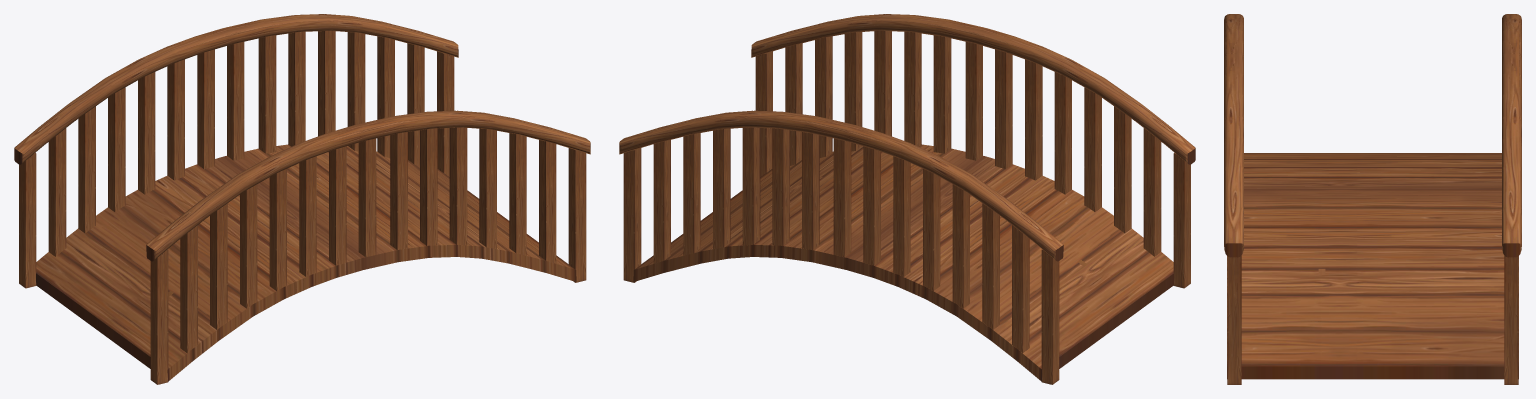
Rendered from Mini Bridge.fbx.
3 renders of one model, left to right at view 1: azimuth 30°, elevation 25°; view 2: azimuth 150°, elevation 25°; view 3: azimuth 270°, elevation 25°, orthographic. The views are drawn at different scales.
Parts seen in each view (by area): view 1: Mini Bridge_Dark Wood_0; view 2: Mini Bridge_Dark Wood_0; view 3: Mini Bridge_Dark Wood_0.
Boxes of the visible parts, x1=… form: Mini Bridge_Dark Wood_0: x1=14, y1=14, x2=590, y2=384; Mini Bridge_Dark Wood_0: x1=619, y1=14, x2=1195, y2=384; Mini Bridge_Dark Wood_0: x1=1224, y1=14, x2=1521, y2=384.
Size of the model in its own units: 591 by 265 by 330.
